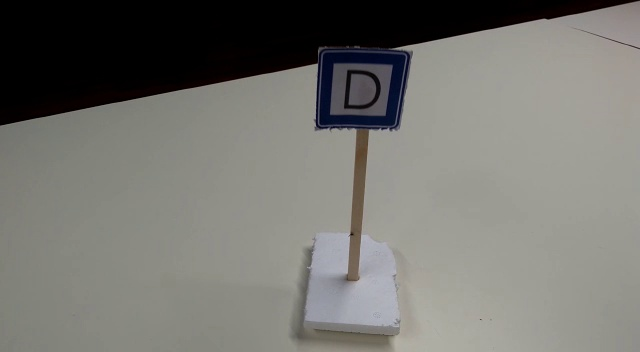durak: (319, 49, 402, 128)
